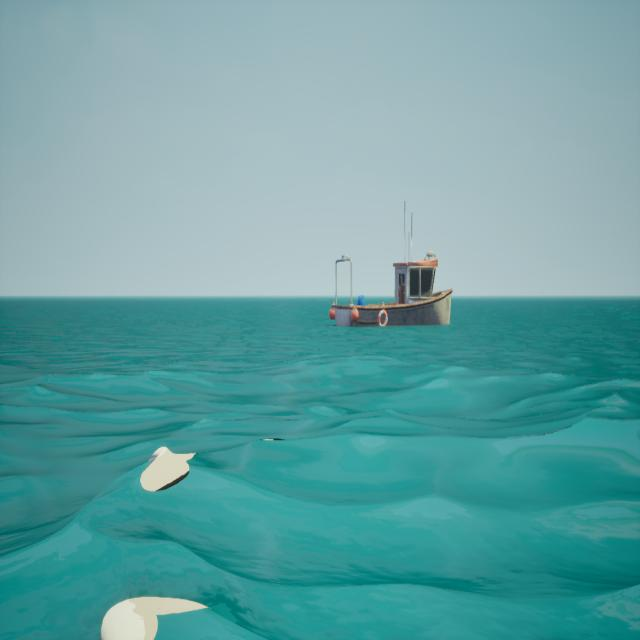ship: (320, 195, 459, 338)
